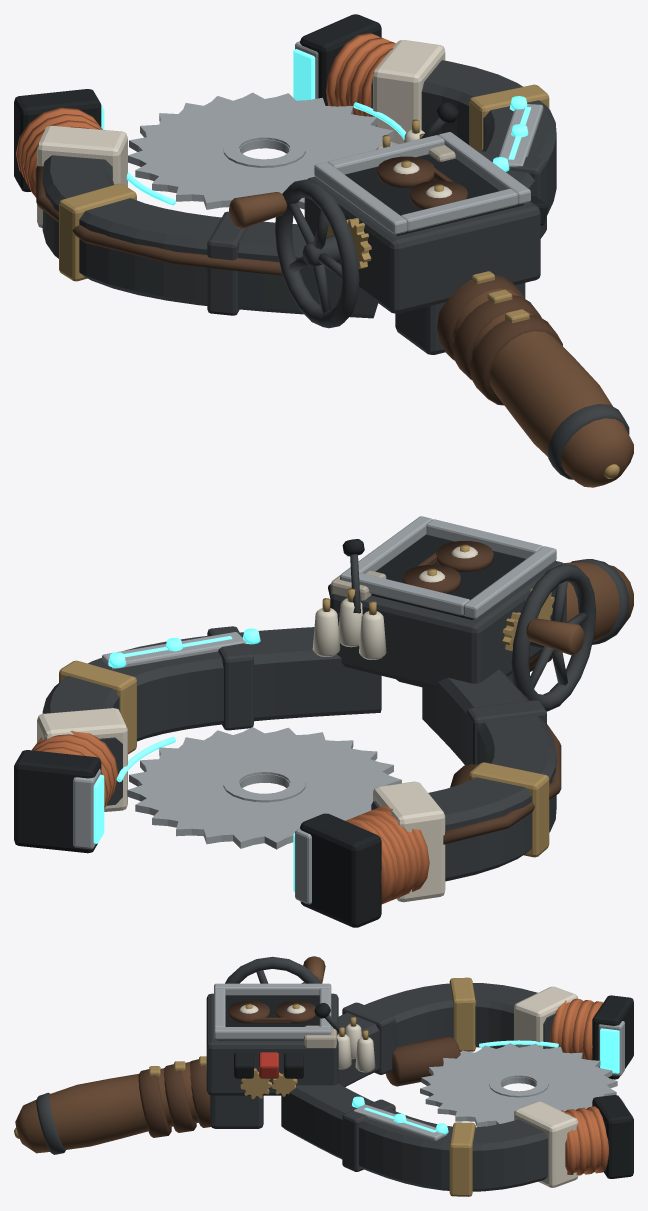
File: ring_caster.glb
3 views of the same model, one above another, from view 1: azimuth 30°, elevation 25°; view 2: azimuth 150°, elevation 25°; view 3: azimuth 270°, elevation 25° (orthographic). The views are drawn at different scales.
Visible parts, largest first — view 1: RingCaster_Forged_Iron, Suspended_Saw_Ring, RingCaster_Weathered_Walnut, RingCaster_Oxhide_Leather, RingCaster_Brushed_Steel, RingCaster_Dark_Charcoal, RingCaster_Porcelain_Ivory, Handwheel_Crank, RingCaster_Aged_Brass, RingCaster_Wound_Copper, RingCaster_Accent_Cyan; view 2: RingCaster_Forged_Iron, Suspended_Saw_Ring, RingCaster_Dark_Charcoal, RingCaster_Brushed_Steel, RingCaster_Porcelain_Ivory, Handwheel_Crank, RingCaster_Wound_Copper, RingCaster_Aged_Brass, RingCaster_Oxhide_Leather, RingCaster_Weathered_Walnut, RingCaster_Accent_Cyan; view 3: RingCaster_Forged_Iron, Suspended_Saw_Ring, RingCaster_Weathered_Walnut, RingCaster_Oxhide_Leather, RingCaster_Dark_Charcoal, RingCaster_Porcelain_Ivory, RingCaster_Aged_Brass, RingCaster_Brushed_Steel, RingCaster_Wound_Copper, RingCaster_Accent_Cyan, Handwheel_Crank, RingCaster_Red_Switch (+1 smaller).
Boxes of the visible parts, x1=… form: RingCaster_Forged_Iron: x1=42, y1=60, x2=629, y2=479; Suspended_Saw_Ring: x1=128, y1=92, x2=397, y2=209; RingCaster_Weathered_Walnut: x1=229, y1=192, x2=633, y2=487; RingCaster_Oxhide_Leather: x1=35, y1=156, x2=562, y2=405; RingCaster_Brushed_Steel: x1=295, y1=41, x2=543, y2=234; RingCaster_Dark_Charcoal: x1=14, y1=14, x2=547, y2=235; RingCaster_Porcelain_Ivory: x1=37, y1=40, x2=452, y2=227; Handwheel_Crank: x1=275, y1=179, x2=359, y2=328; RingCaster_Aged_Brass: x1=59, y1=84, x2=619, y2=478; RingCaster_Wound_Copper: x1=16, y1=33, x2=395, y2=197; RingCaster_Accent_Cyan: x1=101, y1=49, x2=531, y2=205; RingCaster_Forged_Iron: x1=42, y1=554, x2=629, y2=881; Suspended_Saw_Ring: x1=127, y1=727, x2=401, y2=849; RingCaster_Dark_Charcoal: x1=14, y1=534, x2=525, y2=927; RingCaster_Brushed_Steel: x1=73, y1=516, x2=556, y2=904; RingCaster_Porcelain_Ivory: x1=37, y1=546, x2=477, y2=902; Handwheel_Crank: x1=511, y1=564, x2=596, y2=711; RingCaster_Wound_Copper: x1=32, y1=730, x2=429, y2=904; RingCaster_Aged_Brass: x1=59, y1=544, x2=554, y2=857; RingCaster_Oxhide_Leather: x1=403, y1=541, x2=561, y2=844; RingCaster_Weathered_Walnut: x1=526, y1=562, x2=633, y2=655; RingCaster_Accent_Cyan: x1=93, y1=628, x2=294, y2=892; RingCaster_Forged_Iron: x1=36, y1=983, x2=555, y2=1191; Suspended_Saw_Ring: x1=420, y1=1043, x2=617, y2=1127; RingCaster_Weathered_Walnut: x1=15, y1=956, x2=325, y2=1153; RingCaster_Oxhide_Leather: x1=138, y1=1001, x2=460, y2=1137; RingCaster_Dark_Charcoal: x1=217, y1=995, x2=633, y2=1178; RingCaster_Porcelain_Ivory: x1=239, y1=986, x2=578, y2=1187; RingCaster_Aged_Brass: x1=14, y1=977, x2=475, y2=1196; RingCaster_Brushed_Steel: x1=214, y1=983, x2=624, y2=1140; RingCaster_Wound_Copper: x1=550, y1=998, x2=608, y2=1175; RingCaster_Accent_Cyan: x1=352, y1=1028, x2=619, y2=1134; Handwheel_Crank: x1=225, y1=956, x2=320, y2=983; RingCaster_Red_Switch: x1=259, y1=1052, x2=278, y2=1078.
Size of the model in its own units: 0.5589 by 0.2537 by 0.8685.
